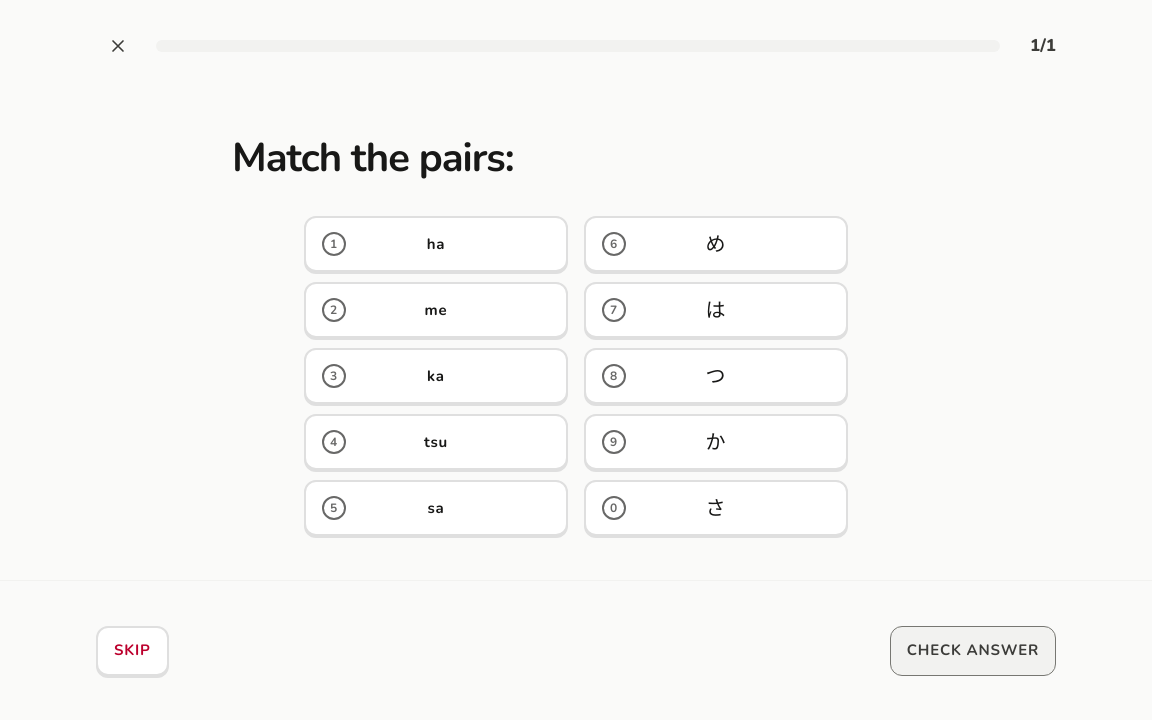
Test case: preserves partially matched skips and attempts, then resets the game on replay
Expected: the heading "Match the pairs:" is shown, [232,131,514,185]
Click the button "4 tsu". click: (436, 442)
box: [304,414,568,470]
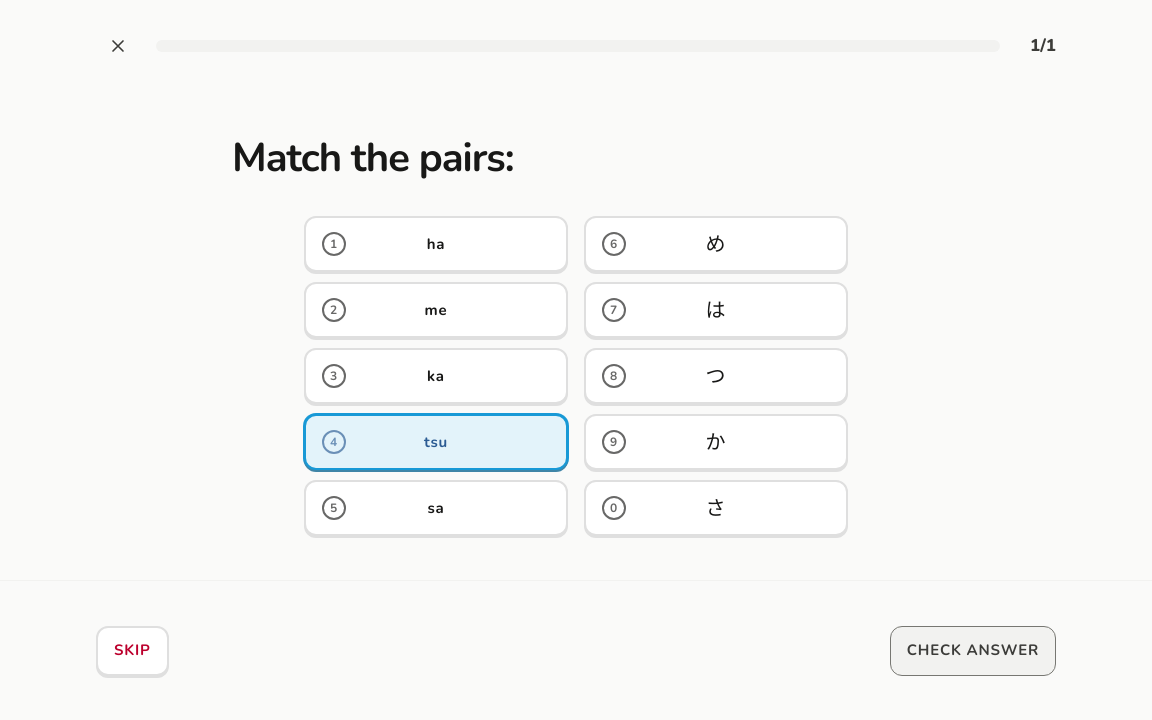
Click the button "8 つ". click: (716, 376)
box: [584,348,848,404]
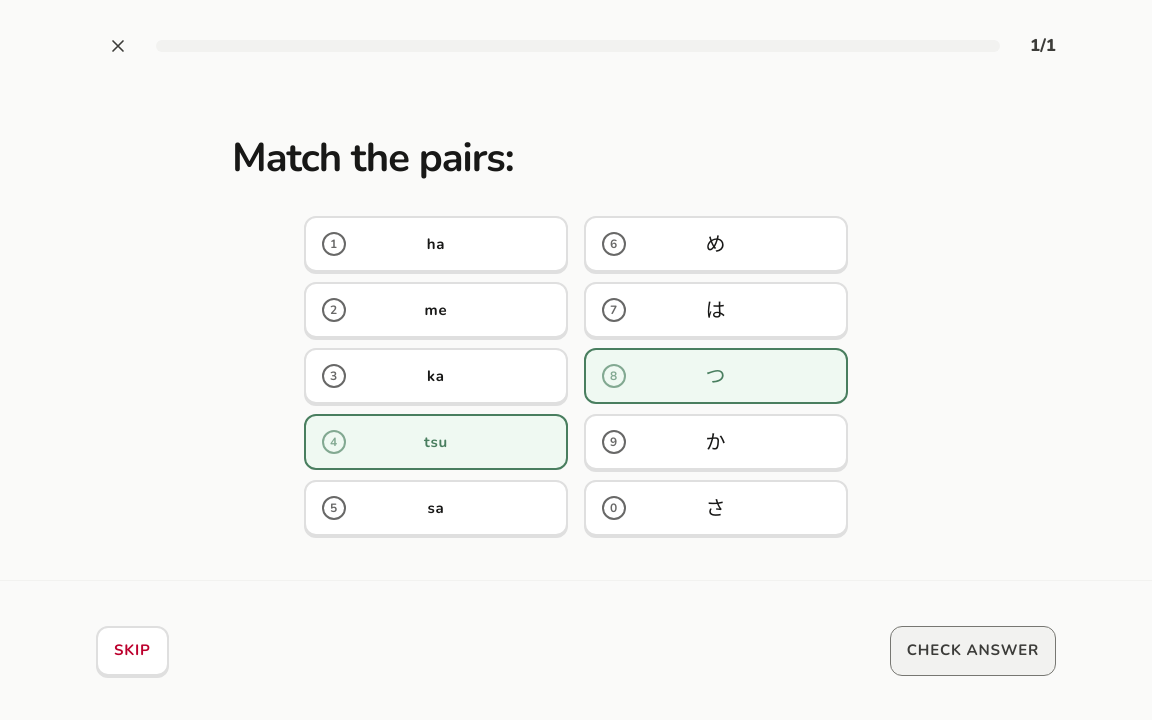
Click the button "Skip". click: (132, 650)
box: [96,626,169,676]
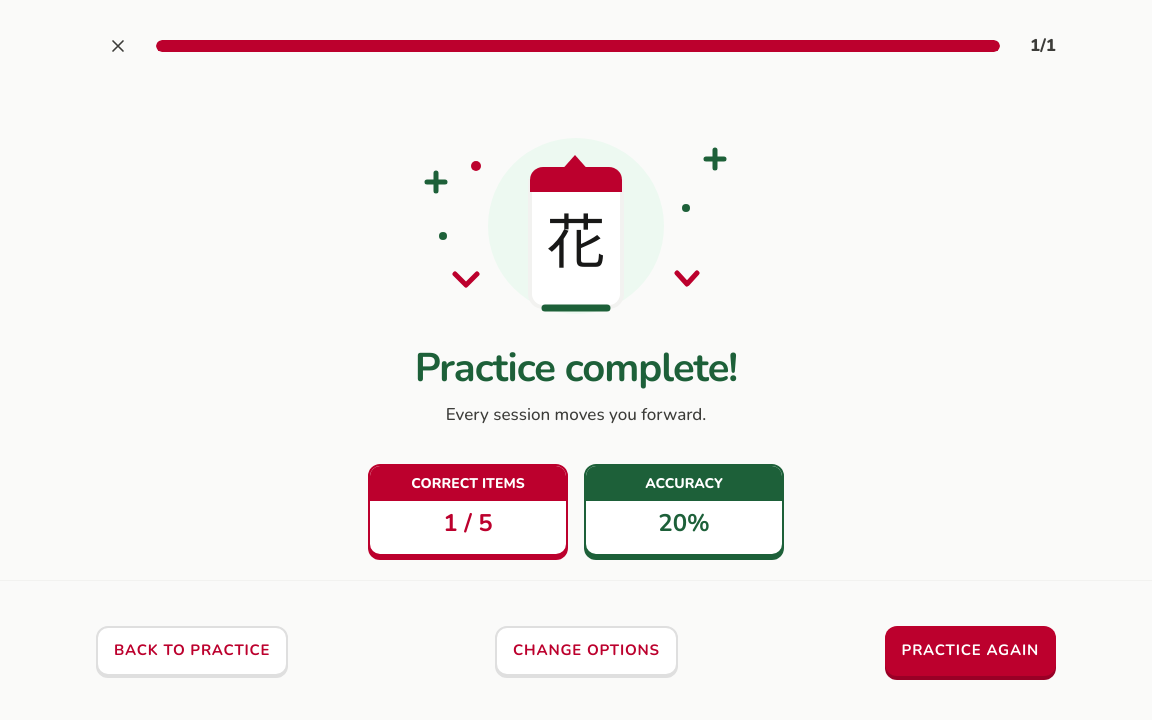
Result: the heading "Practice complete!" is shown at [415,346,737,390]
Result: the text "1 / 5" is shown at [443,507,493,539]
Result: the text "20%" is shown at [658,507,710,539]
Click the button "Practice again". click: (970, 650)
box: [885,626,1056,676]
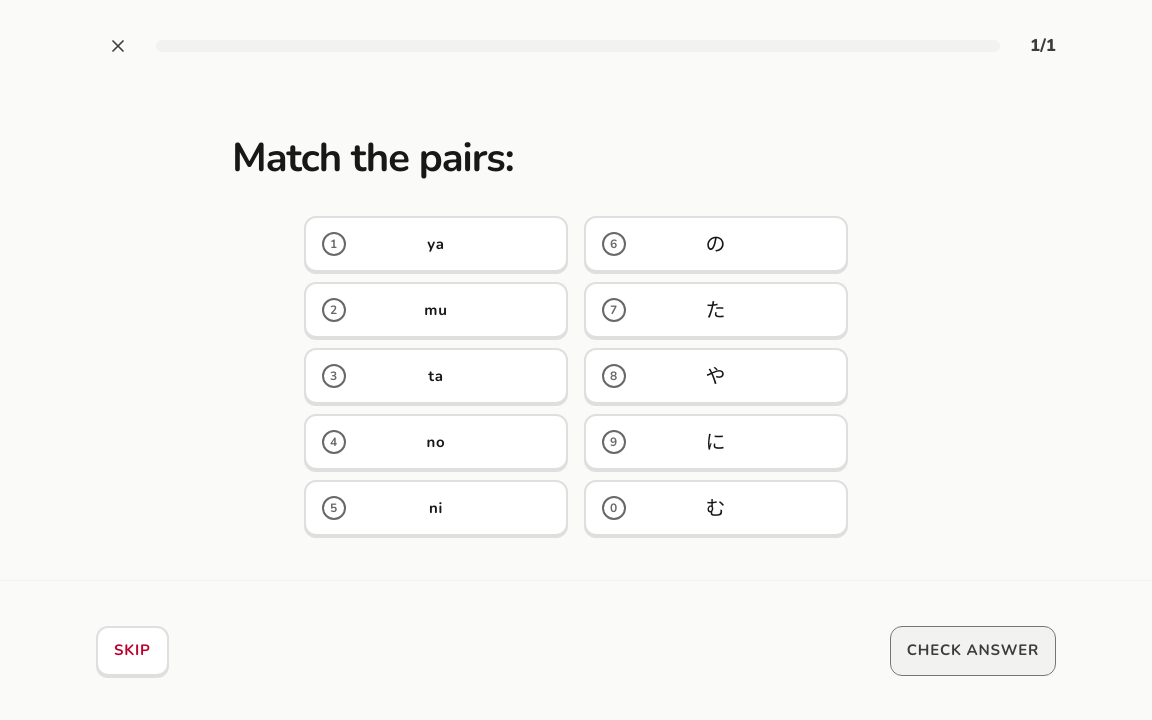
Result: the heading "Match the pairs:" is shown at [232,131,514,185]
Click the button "Skip". click: (132, 650)
box: [96,626,169,676]
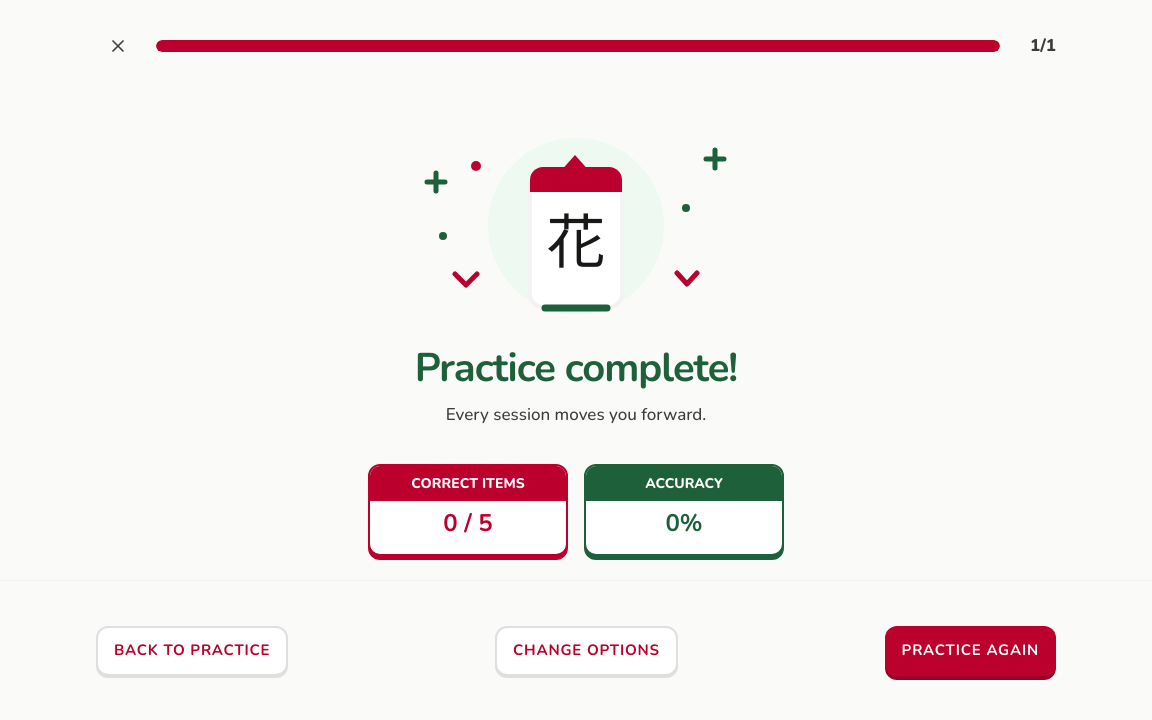
Result: the heading "Practice complete!" is shown at [415,346,737,390]
Result: the text "0 / 5" is shown at [443,507,493,539]
Result: the text "0%" is shown at [666,507,703,539]
